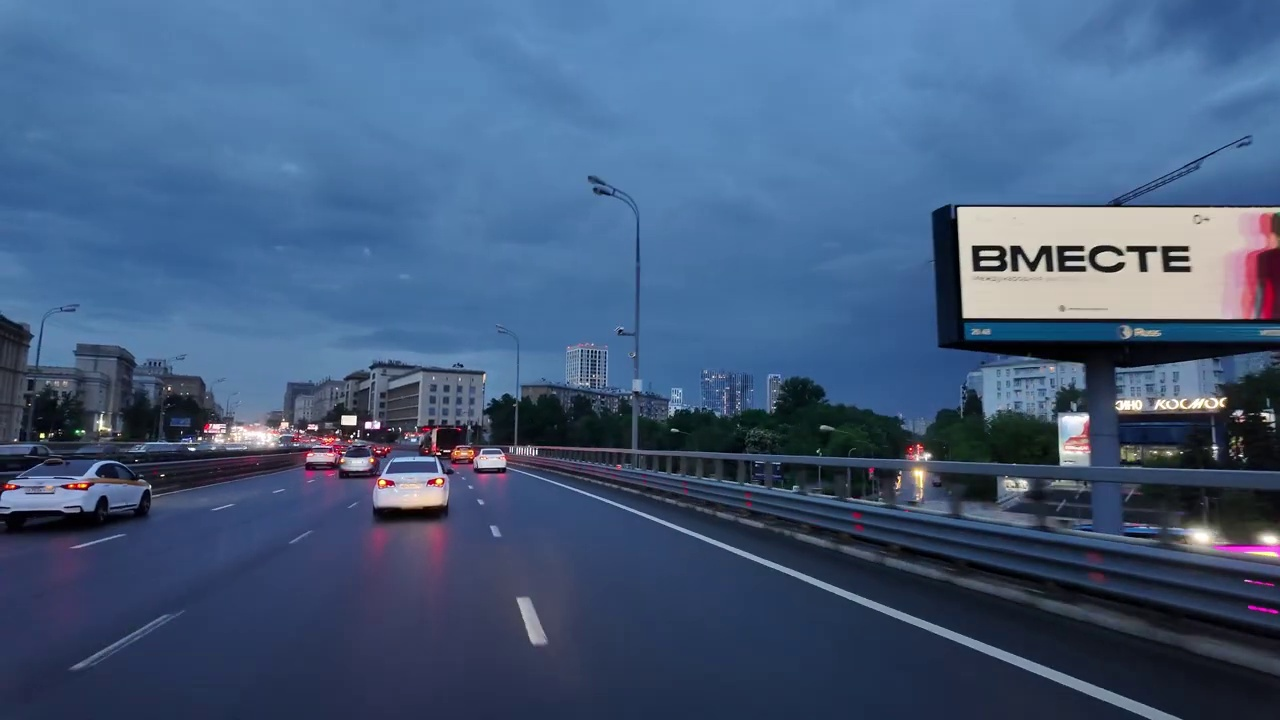apagada: (583, 172, 617, 205)
